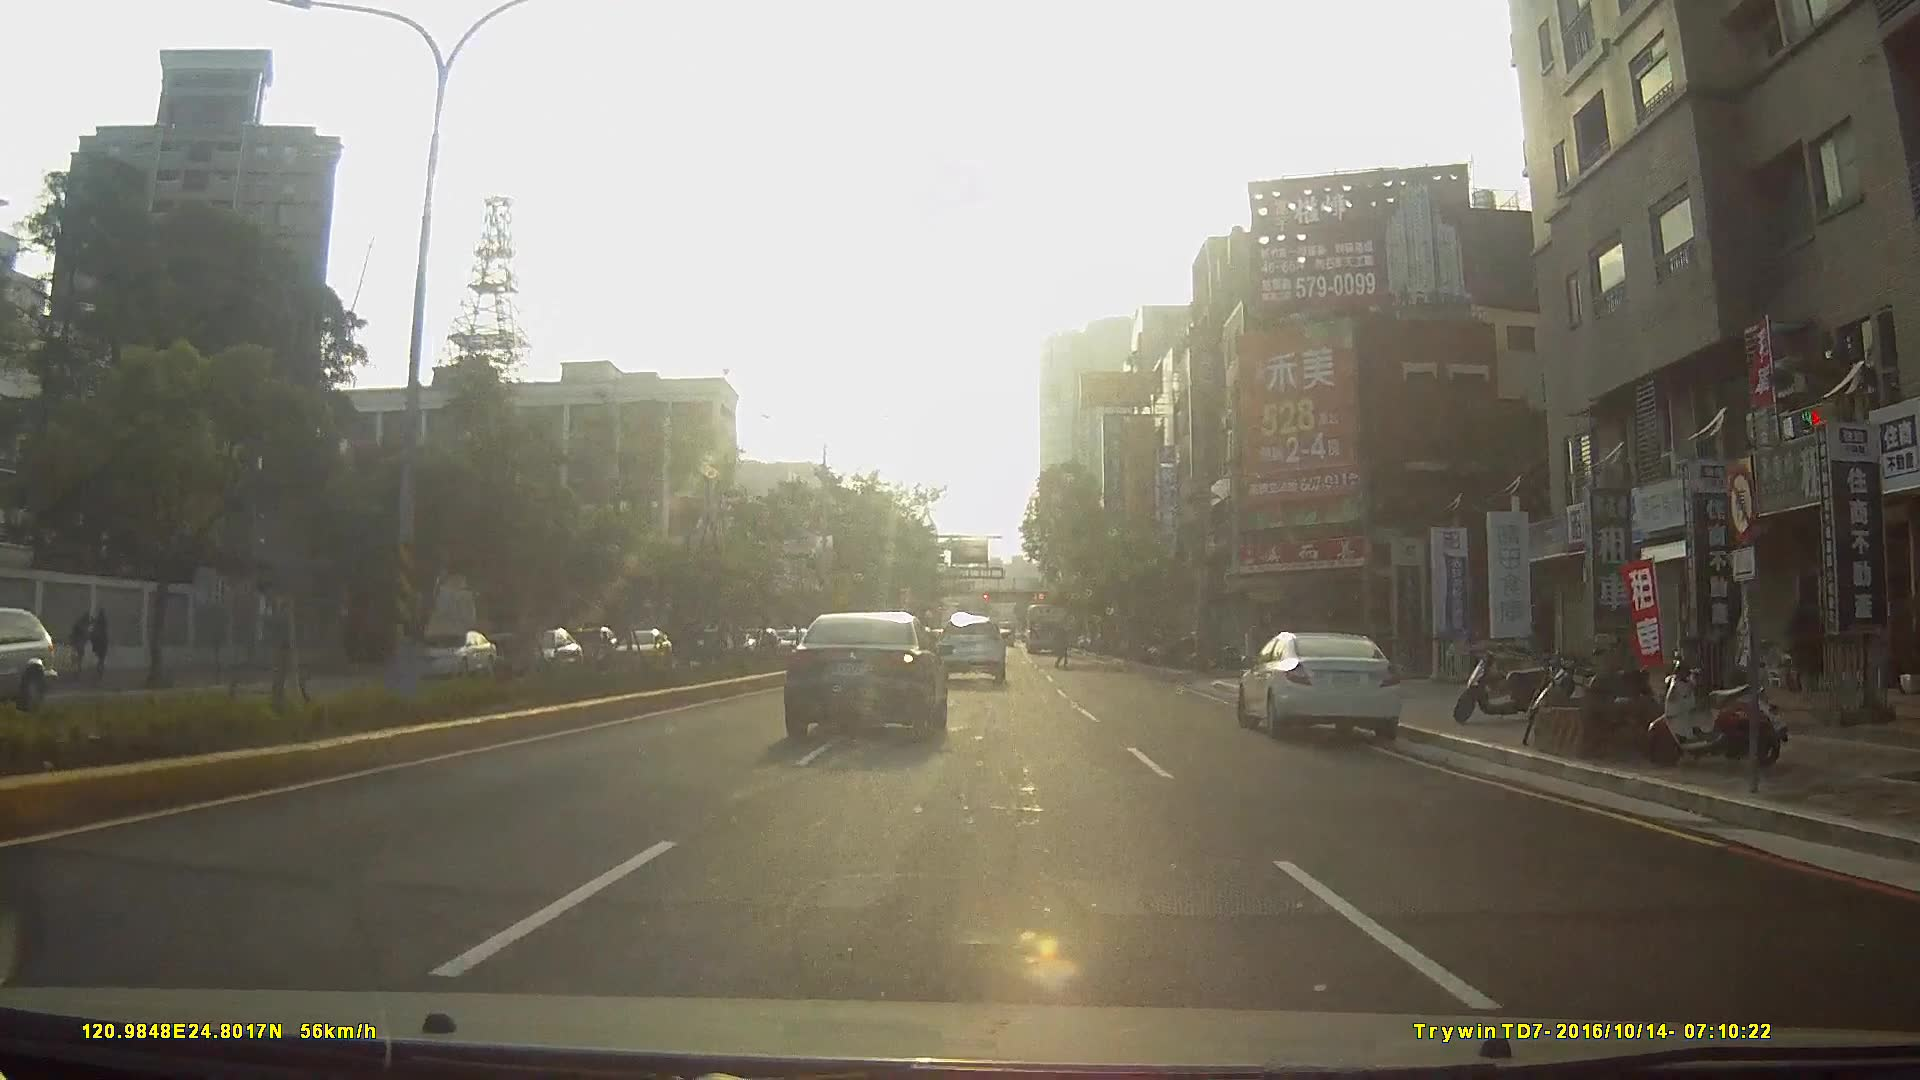pedestrian: (70, 612, 94, 680), (92, 607, 113, 679)
vehicle: (783, 608, 952, 740), (1239, 625, 1412, 743), (1, 604, 62, 711), (934, 611, 1006, 682), (507, 627, 589, 688), (398, 626, 490, 680), (600, 623, 675, 672), (472, 624, 541, 669), (1021, 599, 1067, 654)
